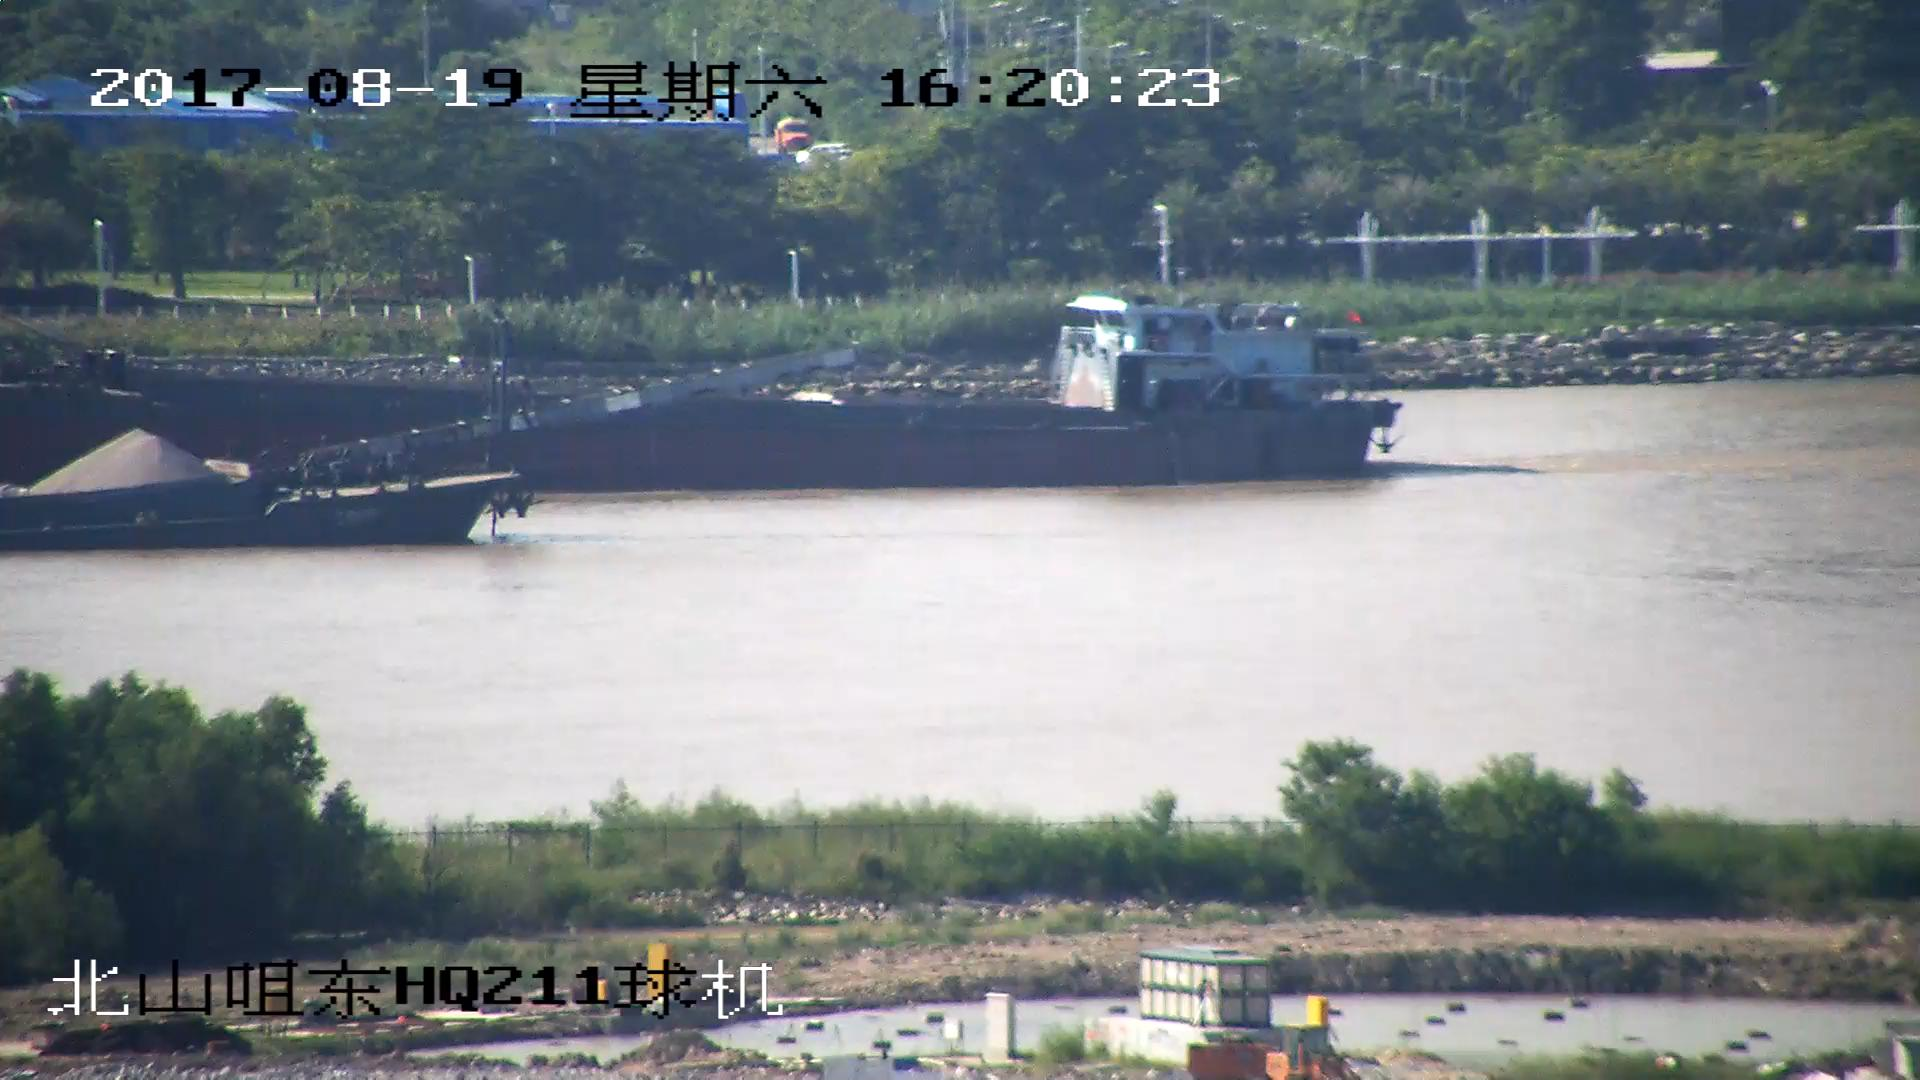bulk cargo carrier: (1, 296, 1396, 482)
ore carrier: (1, 340, 852, 555)
